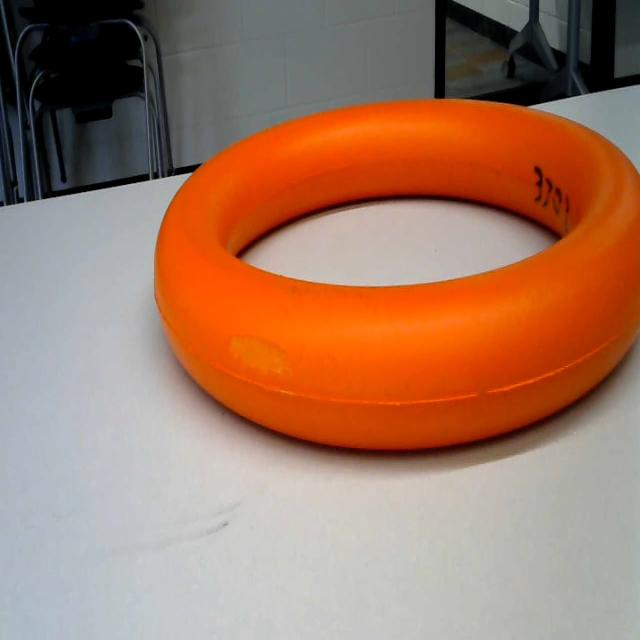note: (149, 74, 640, 467)
